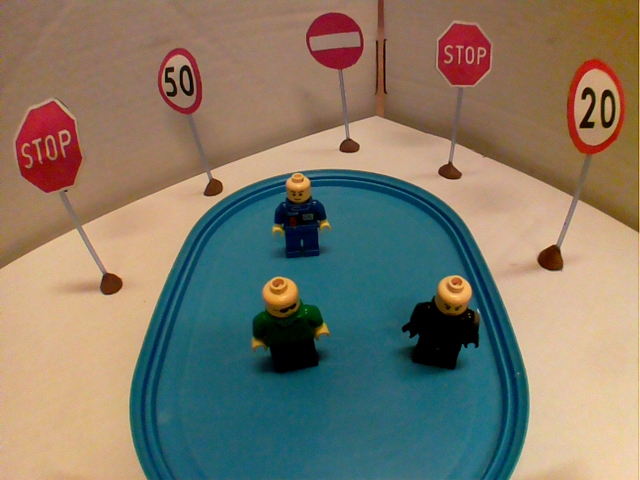Ograniczenie 20: (563, 56, 630, 161)
Ograniczenie 50: (155, 44, 207, 120)
Postac LEGO: (244, 273, 334, 381), (399, 272, 485, 377), (267, 166, 334, 263)
Stop: (10, 95, 89, 199), (432, 17, 495, 91)
Zakaz: (303, 9, 369, 75)
